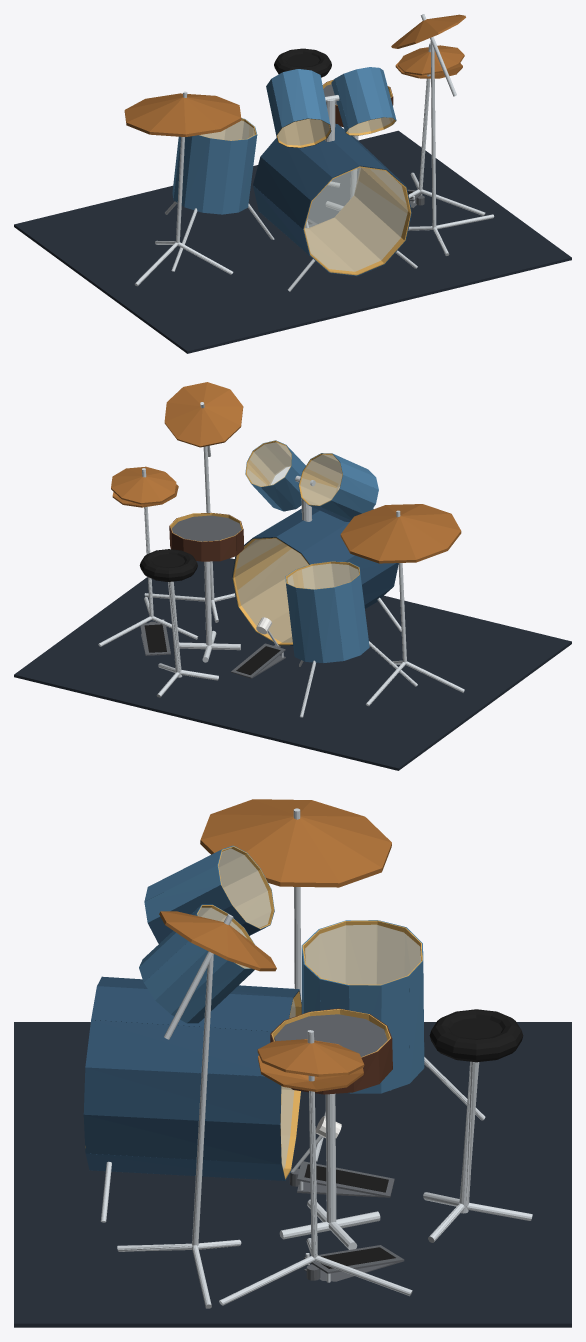
The model's file is drum_kit_refined.glb.
3 views of the same model, one above another, from view 1: azimuth 30°, elevation 25°; view 2: azimuth 150°, elevation 25°; view 3: azimuth 270°, elevation 25° (orthographic). The views are drawn at different scales.
Visible parts, largest first — view 1: group516436384, group887072338, group654266889, group370074410, group1478113385, group410413010, group706437995, group1557875796, group1375386455, group1694807479, group73174683, group28713638 (+15 smaller); view 2: group516436384, group370074410, group887072338, group1320678639, group654266889, group1478113385, group1532374837, group1694807479, group1404238537, group664528598, group722085133, group878792710 (+17 smaller); view 3: group516436384, group370074410, group307779137, group350255547, group1038593656, group654266889, group1532374837, group1478113385, group1564768936, group1533848445, group664528598, group1320678639 (+22 smaller).
Part boxes in pixels (bbox=[...]): group516436384: bbox=[14, 130, 571, 353]; group887072338: bbox=[304, 167, 407, 271]; group654266889: bbox=[266, 69, 331, 148]; group370074410: bbox=[124, 93, 241, 136]; group1478113385: bbox=[331, 67, 396, 135]; group410413010: bbox=[334, 196, 404, 263]; group706437995: bbox=[260, 138, 332, 200]; group1557875796: bbox=[253, 157, 311, 229]; group1375386455: bbox=[309, 218, 384, 274]; group1694807479: bbox=[354, 167, 410, 240]; group73174683: bbox=[202, 138, 231, 214]; group28713638: bbox=[184, 135, 210, 212]; group516436384: bbox=[14, 558, 571, 770]; group370074410: bbox=[340, 504, 461, 563]; group887072338: bbox=[235, 538, 308, 642]; group1320678639: bbox=[164, 382, 243, 456]; group654266889: bbox=[298, 453, 378, 521]; group1478113385: bbox=[245, 440, 305, 511]; group1532374837: bbox=[139, 549, 218, 697]; group1694807479: bbox=[232, 546, 307, 606]; group1404238537: bbox=[111, 466, 176, 504]; group664528598: bbox=[98, 468, 198, 655]; group722085133: bbox=[314, 587, 343, 662]; group878792710: bbox=[276, 510, 349, 553]; group516436384: bbox=[14, 1022, 571, 1327]; group370074410: bbox=[200, 799, 391, 887]; group307779137: bbox=[83, 1067, 281, 1124]; group350255547: bbox=[85, 1020, 271, 1076]; group1038593656: bbox=[83, 1114, 281, 1164]; group654266889: bbox=[144, 845, 274, 943]; group1532374837: bbox=[423, 1009, 532, 1242]; group1478113385: bbox=[139, 904, 254, 1023]; group1564768936: bbox=[305, 924, 420, 984]; group1533848445: bbox=[91, 986, 293, 1031]; group664528598: bbox=[219, 1030, 412, 1305]; group1320678639: bbox=[159, 911, 276, 1039].
Bounding box in the file's own units: 1.6 × 0.872 × 1.25.
